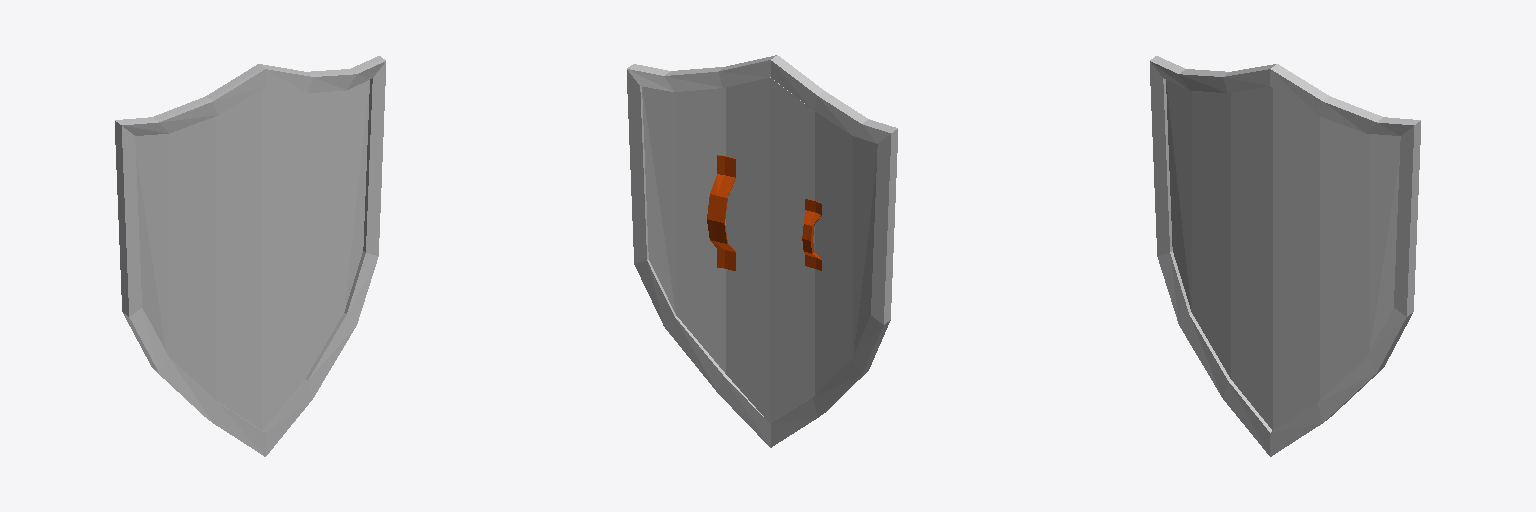
Rendered from heather-shield.obj.
The picture shows the model from 3 angles: view 1: azimuth 30°, elevation 25°; view 2: azimuth 150°, elevation 25°; view 3: azimuth 330°, elevation 25°; orthographic projection.
Visible parts, largest first — view 1: Plane; view 2: Plane; view 3: Plane.
Part boxes in pixels (bbox=[...]): Plane: bbox=[115, 56, 385, 456]; Plane: bbox=[627, 55, 897, 447]; Plane: bbox=[1150, 56, 1420, 456].
Bounding box in the file's own units: 4.03 × 5.65 × 0.5085.